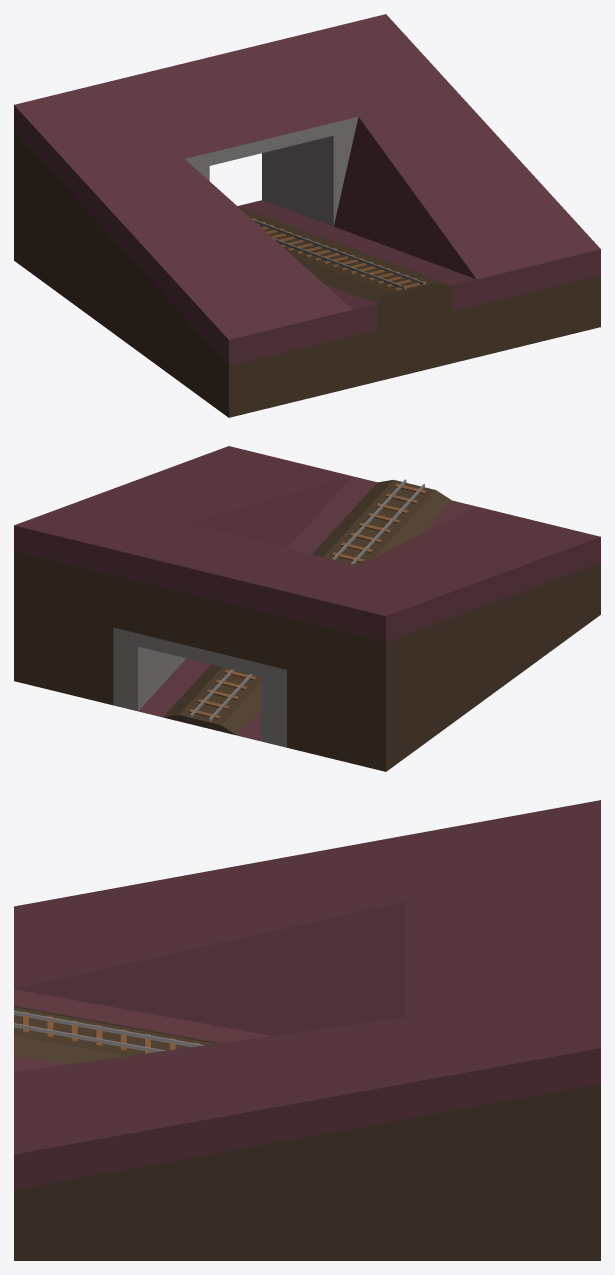
The model's file is tile-rail-hill-tunnel-entrance.fbx.
3 renders of one model, top to bottom at view 1: azimuth 30°, elevation 25°; view 2: azimuth 150°, elevation 25°; view 3: azimuth 270°, elevation 25°, orthographic. The views are drawn at different scales.
Visible parts, largest first — view 1: tile-rail-hill-tunnel-entrance; view 2: tile-rail-hill-tunnel-entrance; view 3: tile-rail-hill-tunnel-entrance.
Part boxes in pixels (x1=…): tile-rail-hill-tunnel-entrance: x1=14, y1=14, x2=600, y2=417; tile-rail-hill-tunnel-entrance: x1=14, y1=446, x2=600, y2=771; tile-rail-hill-tunnel-entrance: x1=14, y1=800, x2=600, y2=1260.
Size of the model in its own units: 30 by 12 by 30.
